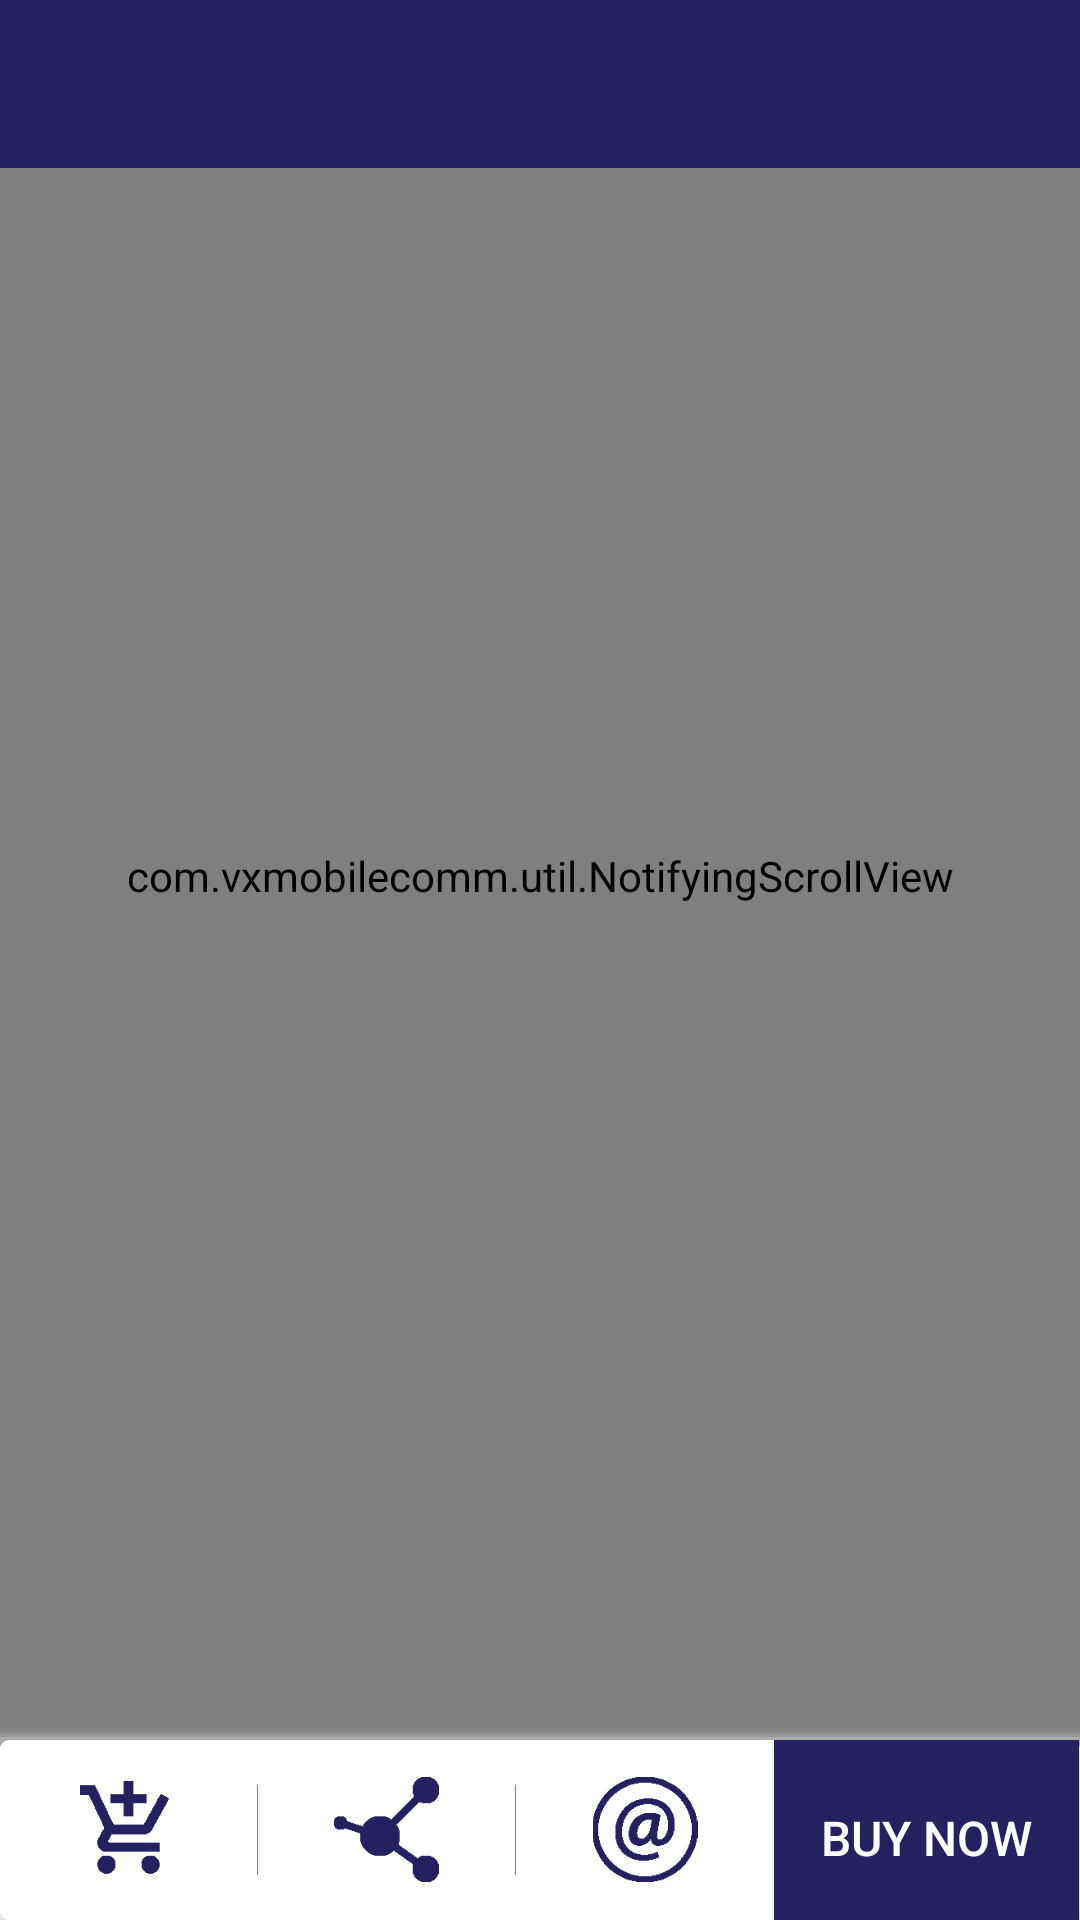

Icon click points for this 1080 x 1920 phone screenshot, format (x,y):
addtocart: (124,1827)
email: (645,1829)
share: (386,1829)
